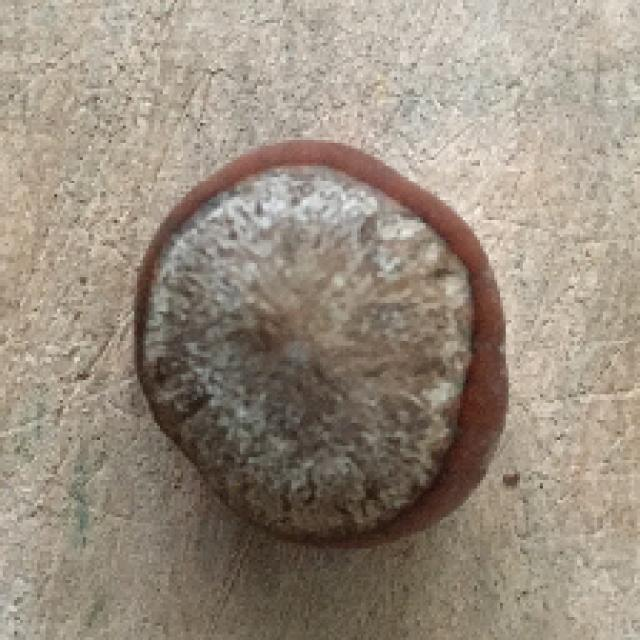qualityHazelnut: (139, 139, 510, 553)
